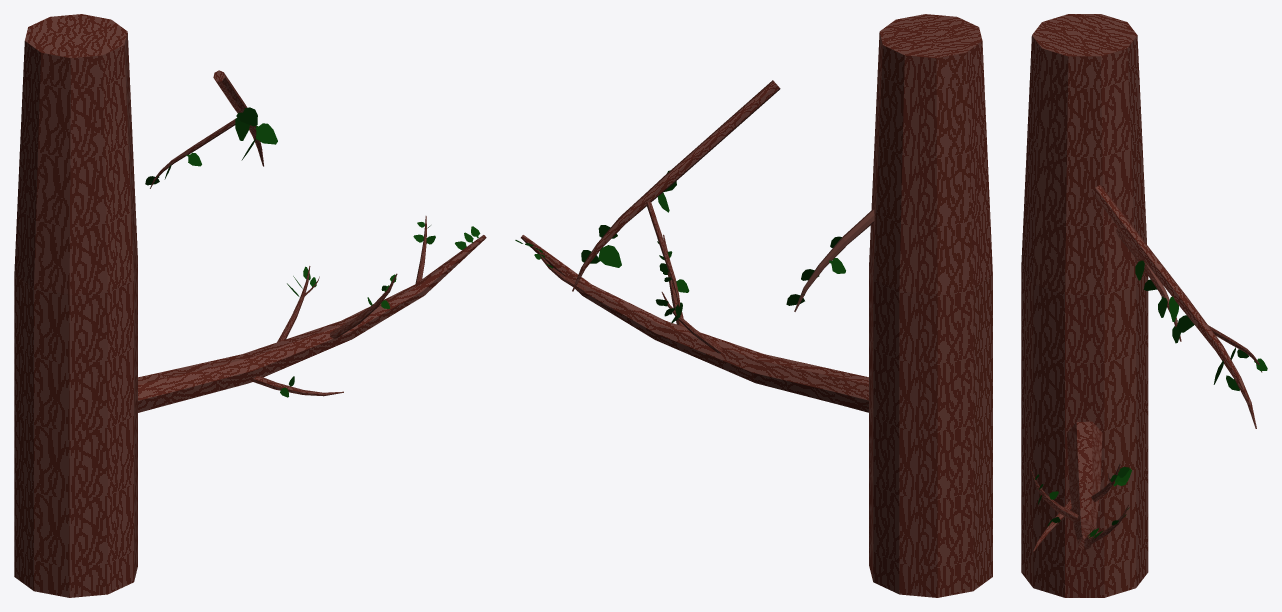
File: forest_art.gltf
3 views of the same model, side by side, from view 1: azimuth 30°, elevation 25°; view 2: azimuth 150°, elevation 25°; view 3: azimuth 270°, elevation 25° (orthographic).
Parts seen in each view (by area): view 1: Circle.001, Circle, Circle.008; view 2: Circle.001, Circle, Circle.008, Circle.007; view 3: Circle.001, Circle, Circle.008, Circle.007, Circle.003.
Part boxes in pixels (left/top/right/bottom): Circle.001: left=14, top=14, right=137, bottom=597; Circle: left=138, top=235, right=486, bottom=412; Circle.008: left=213, top=70, right=263, bottom=166; Circle.001: left=869, top=14, right=992, bottom=597; Circle: left=521, top=235, right=868, bottom=412; Circle.008: left=572, top=80, right=780, bottom=291; Circle.007: left=794, top=208, right=874, bottom=311; Circle.001: left=1021, top=14, right=1148, bottom=597; Circle: left=1067, top=421, right=1102, bottom=550; Circle.008: left=1091, top=185, right=1256, bottom=428; Circle.007: left=1116, top=226, right=1181, bottom=341; Circle.003: left=1030, top=470, right=1078, bottom=521.
Bounding box in the file's own units: 27.09 × 30 × 12.48.
Materials: 2 (1 with a texture image).
